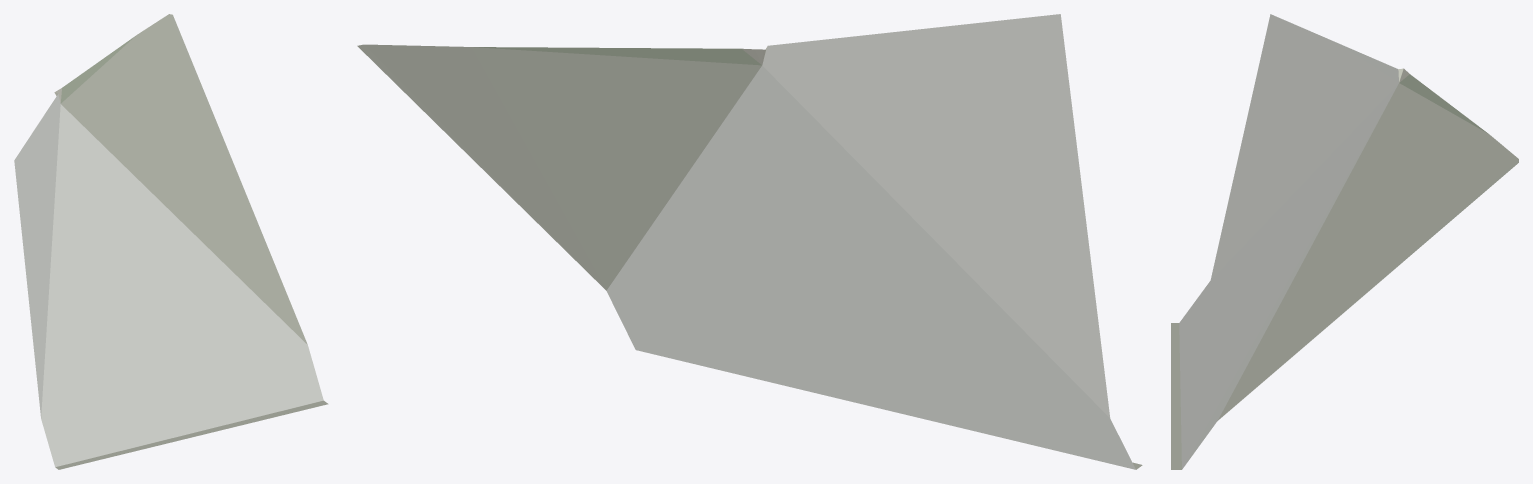
3 views of the same model, side by side, from view 1: azimuth 30°, elevation 25°; view 2: azimuth 150°, elevation 25°; view 3: azimuth 270°, elevation 25° (orthographic). The views are drawn at different scales.
Bounding box in the file's own units: 0.983 × 0.9637 × 0.983.
1 material, 1 textured.
